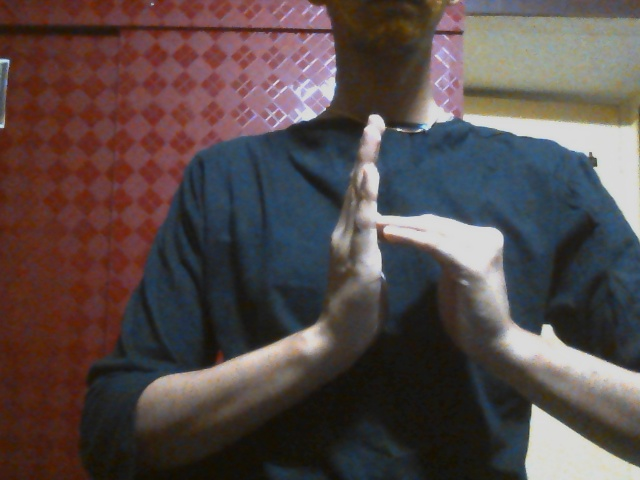Z: (307, 113, 514, 381)
